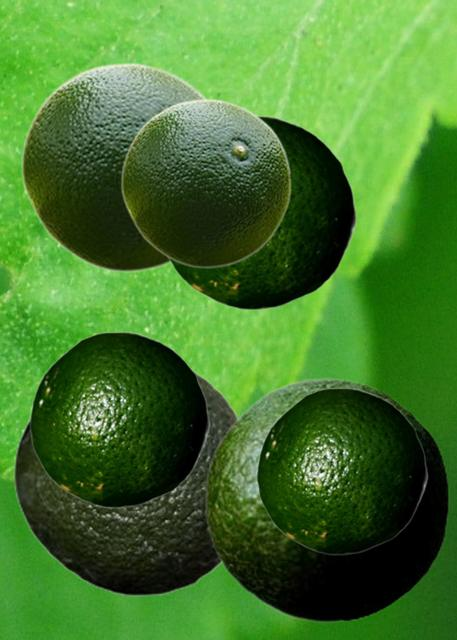calamansi: (204, 377, 448, 622), (13, 364, 239, 595), (20, 62, 209, 271), (164, 115, 356, 309), (29, 331, 209, 507), (120, 98, 291, 267), (256, 387, 427, 554)
